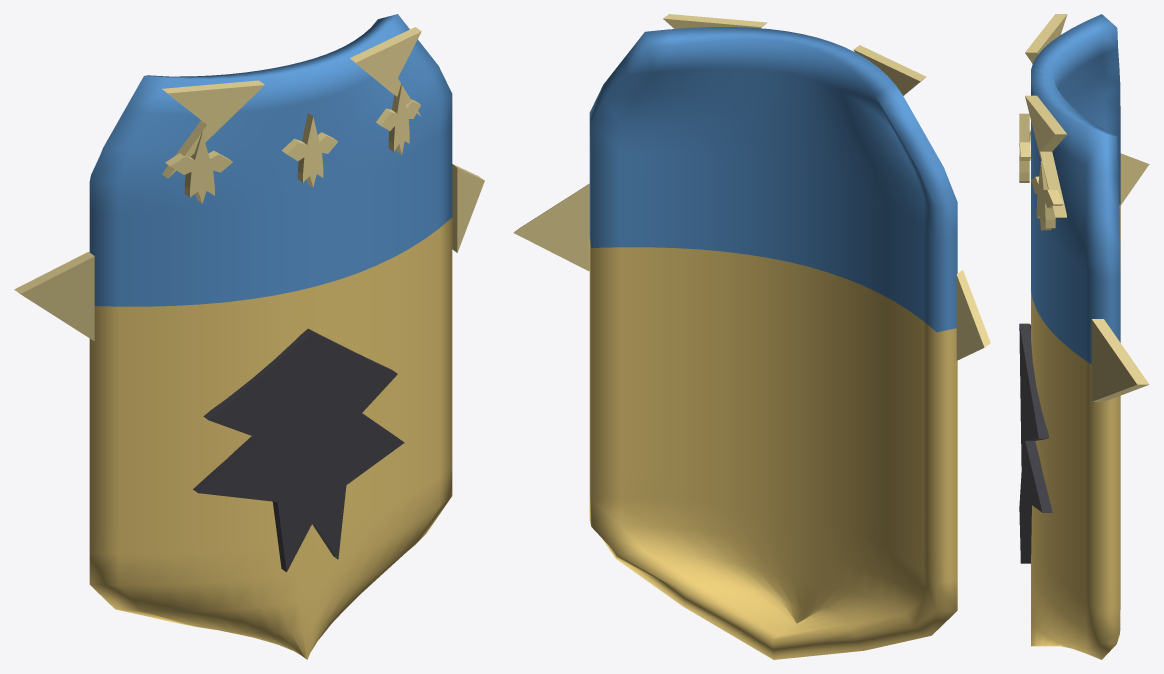
File: roman_shield.glb
3 views of the same model, side by side, from view 1: azimuth 30°, elevation 25°; view 2: azimuth 150°, elevation 25°; view 3: azimuth 270°, elevation 25° (orthographic). The views are drawn at different scales.
Parts seen in each view (by area): view 1: Shield_Body, Shield_Eagle, Shield_Bracket_L, Shield_Bracket_TL, Shield_Bracket_TR, Shield_Fleur_0, Shield_Fleur_1, Shield_Bracket_R, Shield_Fleur_2; view 2: Shield_Body, Shield_Bracket_R, Shield_Bracket_L, Shield_Bracket_TL, Shield_Bracket_TR; view 3: Shield_Body, Shield_Eagle, Shield_Bracket_R, Shield_Bracket_TR, Shield_Fleur_2, Shield_Bracket_L, Shield_Fleur_1, Shield_Bracket_TL.
Part boxes in pixels (x1,y1,x2,y2): Shield_Body: (89,14,452,659); Shield_Eagle: (193,328,404,572); Shield_Bracket_L: (14,252,94,341); Shield_Bracket_TL: (162,80,264,178); Shield_Bracket_TR: (349,27,421,116); Shield_Fleur_0: (165,132,232,203); Shield_Fleur_1: (282,113,337,187); Shield_Bracket_R: (452,164,484,252); Shield_Fleur_2: (376,84,420,154); Shield_Body: (589,27,957,659); Shield_Bracket_R: (513,183,589,271); Shield_Bracket_L: (956,270,990,360); Shield_Bracket_TL: (853,45,926,95); Shield_Bracket_TR: (663,14,767,28); Shield_Body: (1031,14,1120,659); Shield_Eagle: (1019,323,1052,563); Shield_Bracket_R: (1091,319,1149,401); Shield_Bracket_TR: (1025,95,1067,217); Shield_Fleur_2: (1031,161,1063,230); Shield_Bracket_L: (1120,153,1149,205); Shield_Fleur_1: (1019,113,1030,182); Shield_Bracket_TL: (1025,14,1067,63).
Bounding box in the file's own units: 0.5125 × 0.62 × 0.1279.
